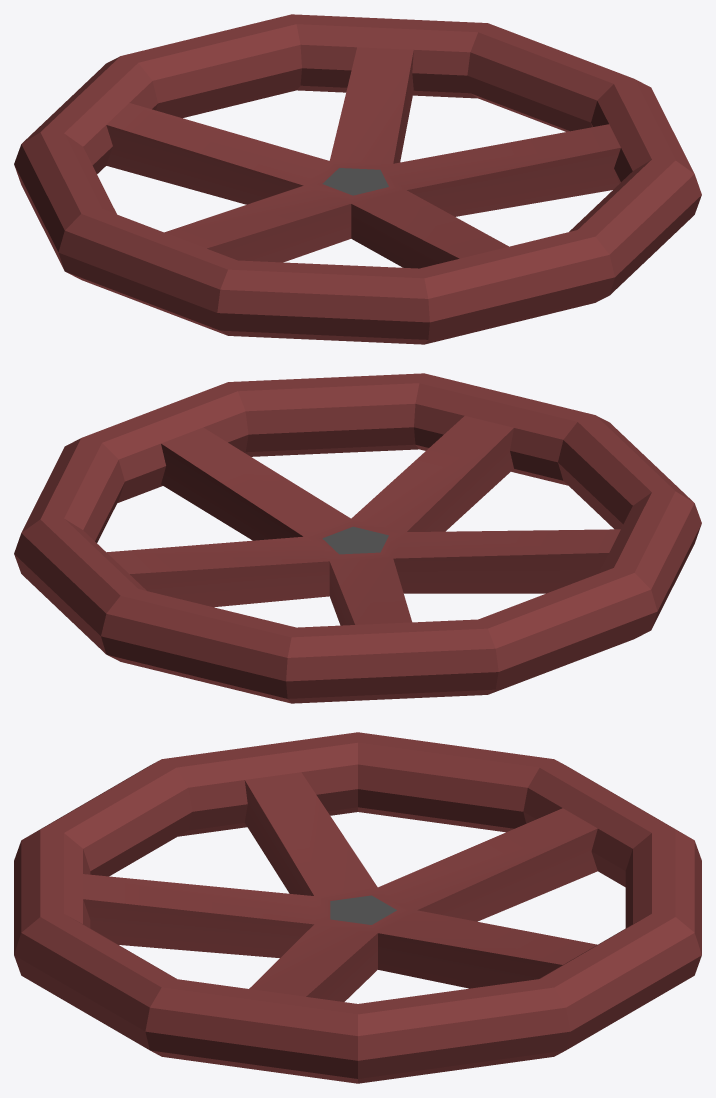
The model's file is Red_Valve.fbx.
The picture shows the model from 3 angles, top to bottom: view 1: azimuth 30°, elevation 25°; view 2: azimuth 150°, elevation 25°; view 3: azimuth 270°, elevation 25°; orthographic projection. The views are drawn at different scales.
Parts seen in each view (by area): view 1: pTorus5; view 2: pTorus5; view 3: pTorus5.
Boxes of the visible parts, x1,y1,x2,y2 form: pTorus5: (14, 14, 701, 344); pTorus5: (14, 373, 701, 703); pTorus5: (14, 732, 701, 1083).
Size of the model in its own units: 4.5 by 0.505 by 4.28.
